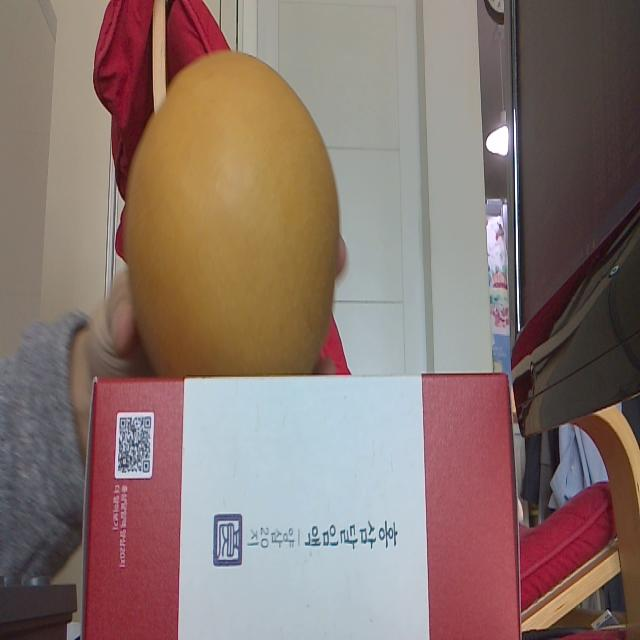pear: (128, 50, 339, 378)
